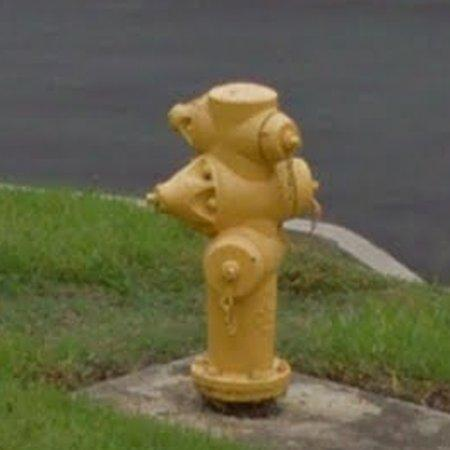a fire hydrant: (147, 82, 321, 406)
